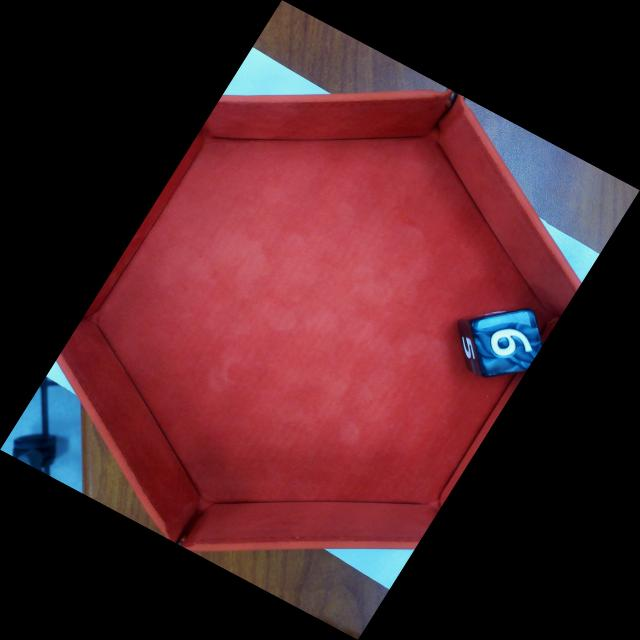dice: (481, 315, 541, 374)
